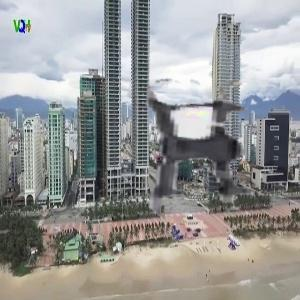drone: (113, 64, 288, 239)
